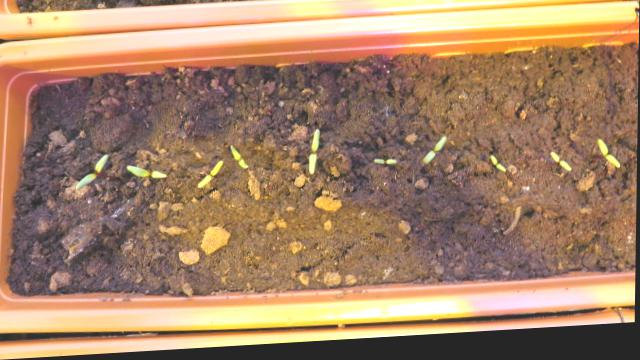crop: (71, 151, 110, 192), (195, 160, 226, 192), (595, 143, 622, 178), (420, 138, 451, 168), (124, 163, 170, 183), (304, 130, 322, 180), (226, 144, 251, 173), (546, 155, 574, 180), (485, 157, 509, 180), (371, 161, 399, 170)
